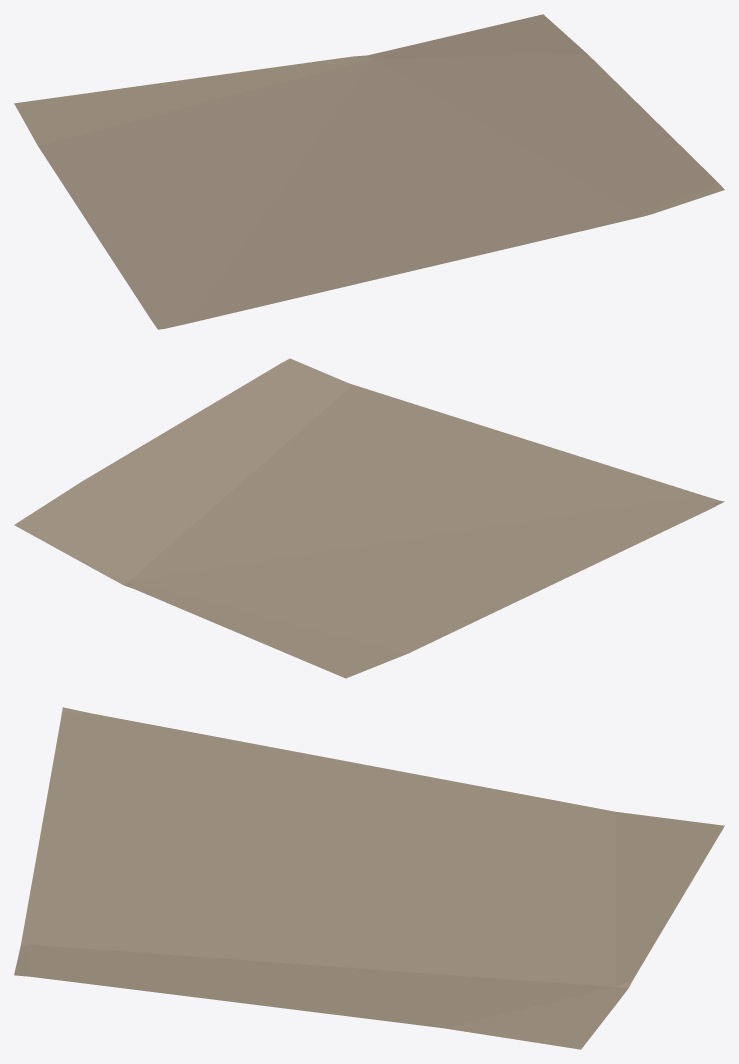
File: farm_-6_-4_soil.glb
3 renders of one model, top to bottom at view 1: azimuth 30°, elevation 25°; view 2: azimuth 150°, elevation 25°; view 3: azimuth 270°, elevation 25°, orthographic. The views are drawn at different scales.
Visible parts, largest first — view 1: geometry_0; view 2: geometry_0; view 3: geometry_0.
Part boxes in pixels (x1,y1,x2,y2): geometry_0: (14, 14, 724, 329); geometry_0: (14, 358, 724, 678); geometry_0: (14, 707, 724, 1049).
Size of the model in its own units: 108 by 9.04 by 97.14.
